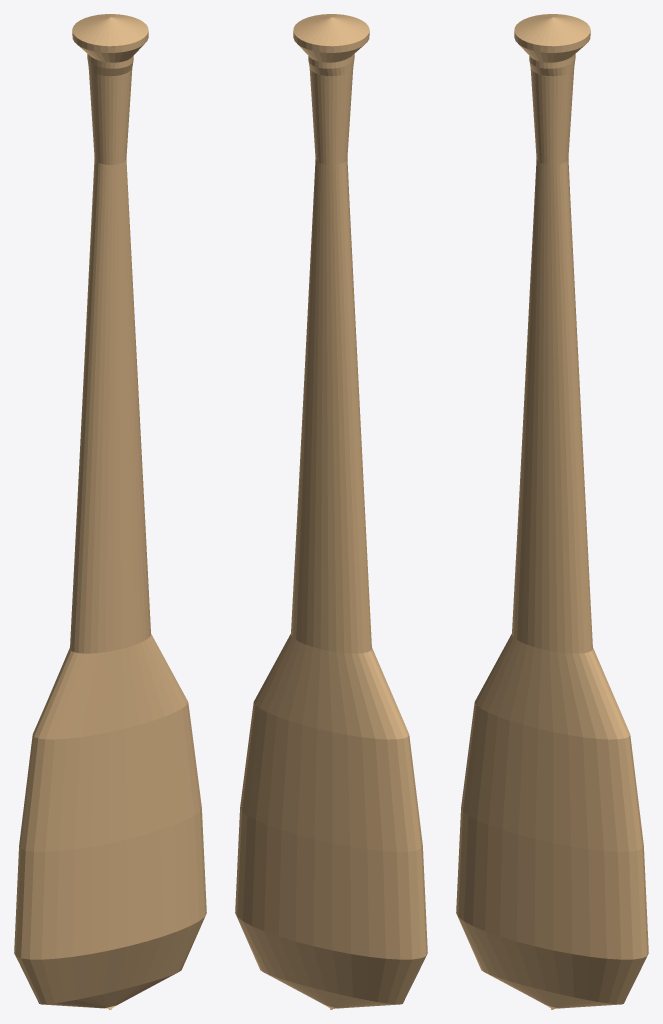
The model's file is remo.glb.
3 views of the same model, side by side, from view 1: azimuth 30°, elevation 25°; view 2: azimuth 150°, elevation 25°; view 3: azimuth 330°, elevation 25° (orthographic).
Visible parts, largest first — view 1: Cylinder; view 2: Cylinder; view 3: Cylinder.
Boxes of the visible parts, <box> form: Cylinder: <box>14,14,206,1009</box>; Cylinder: <box>235,14,427,1009</box>; Cylinder: <box>456,14,648,1009</box>.
Bounding box in the file's own units: 0.7974 × 3.99 × 0.2785.
